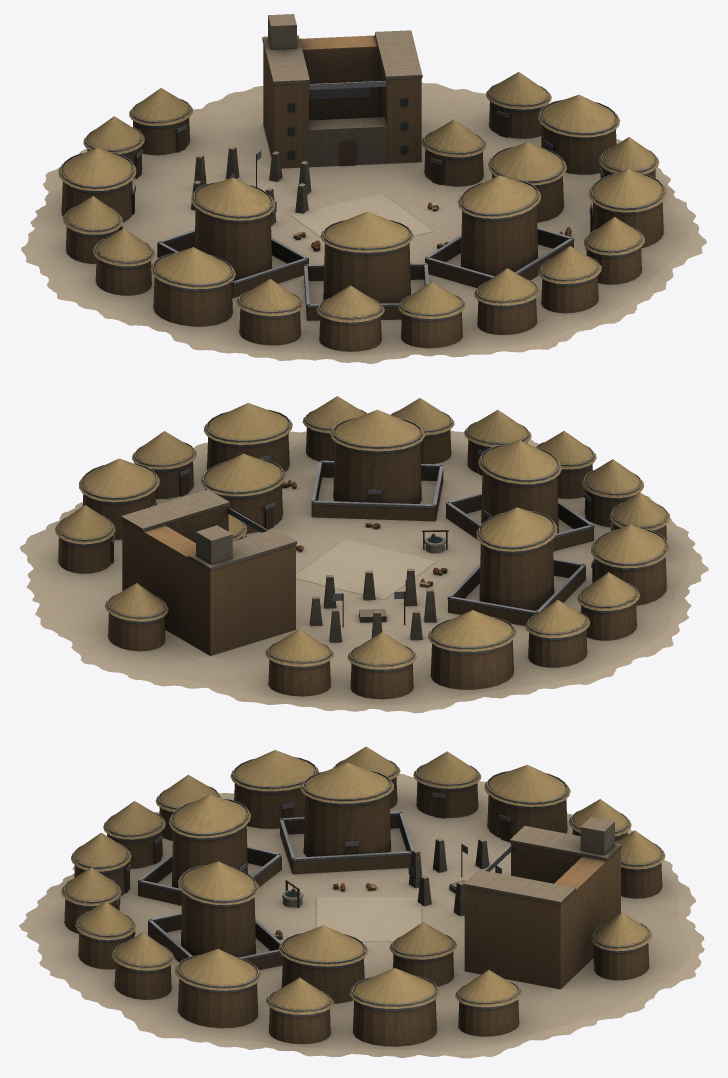
Rendered from bronze-town-big-b-maghreb-108ccd18.glb.
3 renders of one model, top to bottom at view 1: azimuth 30°, elevation 25°; view 2: azimuth 150°, elevation 25°; view 3: azimuth 270°, elevation 25°, orthographic.
Parts seen in each view (by area): view 1: LOD0; view 2: LOD0; view 3: LOD0.
Part boxes in pixels (bbox=[...]): LOD0: bbox=[21, 14, 706, 363]; LOD0: bbox=[20, 396, 708, 713]; LOD0: bbox=[19, 746, 704, 1058].
Size of what is drawn, in the model's own units: 7.95 by 1.44 by 8.02.
Materials: 3 (3 with a texture image).
